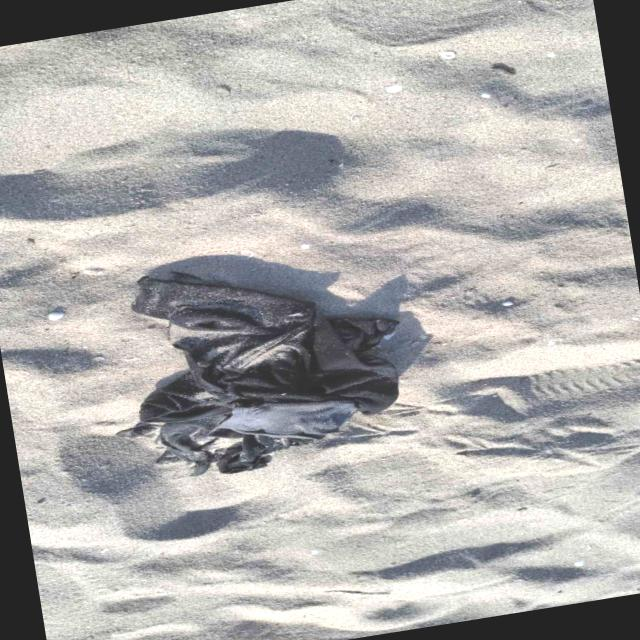vai_vun: (118, 274, 398, 475)
